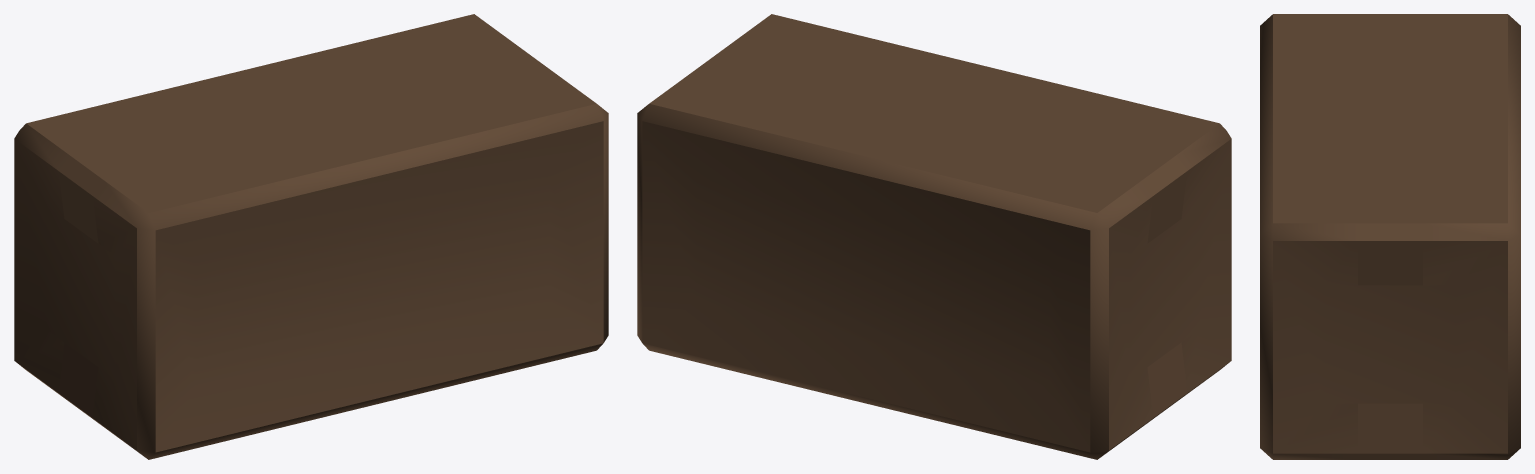
The model's file is compost-bin.glb.
3 views of the same model, side by side, from view 1: azimuth 30°, elevation 25°; view 2: azimuth 150°, elevation 25°; view 3: azimuth 270°, elevation 25° (orthographic). The views are drawn at different scales.
Parts seen in each view (by area): view 1: box-large; view 2: box-large; view 3: box-large.
Boxes of the visible parts, <box> form: box-large: <box>14,14,608,459</box>; box-large: <box>637,14,1231,459</box>; box-large: <box>1260,14,1520,459</box>.
Size of the model in its own units: 2 by 1 by 1.
